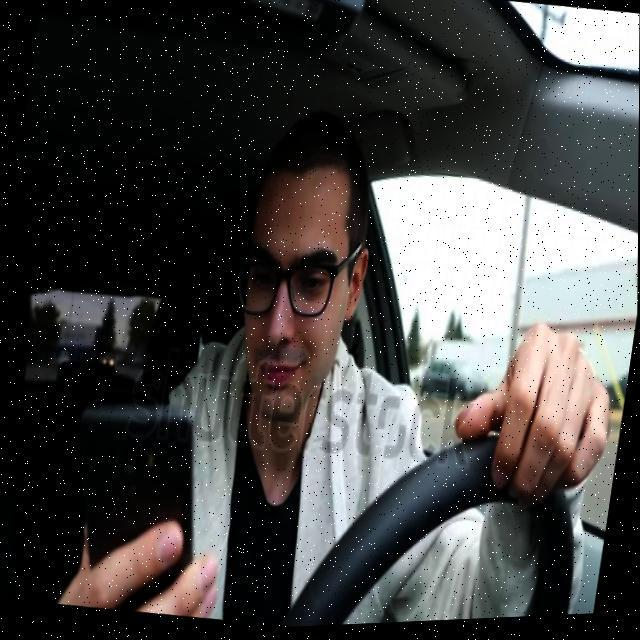PhoneCall: (56, 394, 214, 622)
